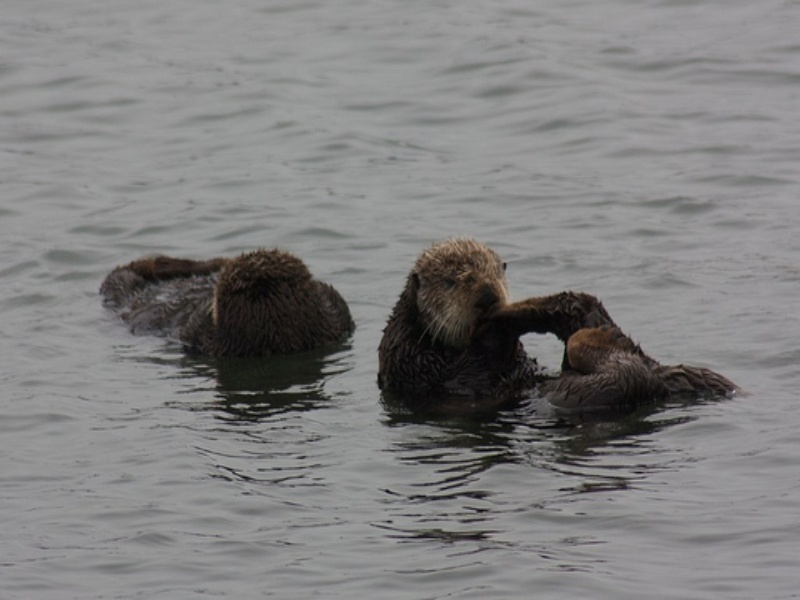minkish: (364, 234, 753, 469), (97, 236, 358, 380)
